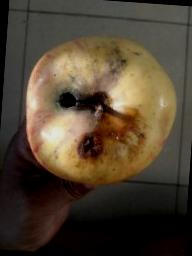Apple Rotten: (20, 31, 183, 194)
